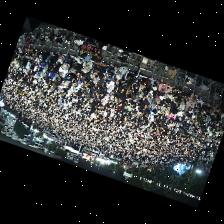person: (124, 61, 141, 82), (59, 57, 71, 75), (37, 54, 50, 70), (64, 66, 75, 84), (128, 80, 140, 96), (93, 61, 106, 75), (138, 76, 150, 90), (158, 82, 171, 94), (171, 87, 182, 101), (114, 65, 126, 77), (55, 53, 66, 66), (71, 56, 82, 69), (80, 67, 90, 81), (45, 68, 56, 80), (47, 51, 57, 64), (106, 75, 114, 91), (71, 74, 81, 86), (82, 59, 92, 71), (120, 80, 129, 93), (163, 99, 174, 109), (92, 72, 103, 82), (185, 99, 194, 111), (91, 85, 100, 96), (114, 74, 123, 85), (202, 102, 211, 113), (107, 63, 114, 77), (195, 97, 202, 110), (94, 77, 103, 87), (164, 91, 172, 102), (177, 100, 184, 112), (40, 62, 47, 74), (26, 48, 35, 57), (150, 79, 158, 89), (189, 92, 197, 102), (137, 83, 143, 96), (152, 89, 159, 99), (103, 68, 108, 82), (20, 47, 27, 55), (96, 41, 104, 48), (156, 95, 163, 103), (147, 90, 152, 101)
